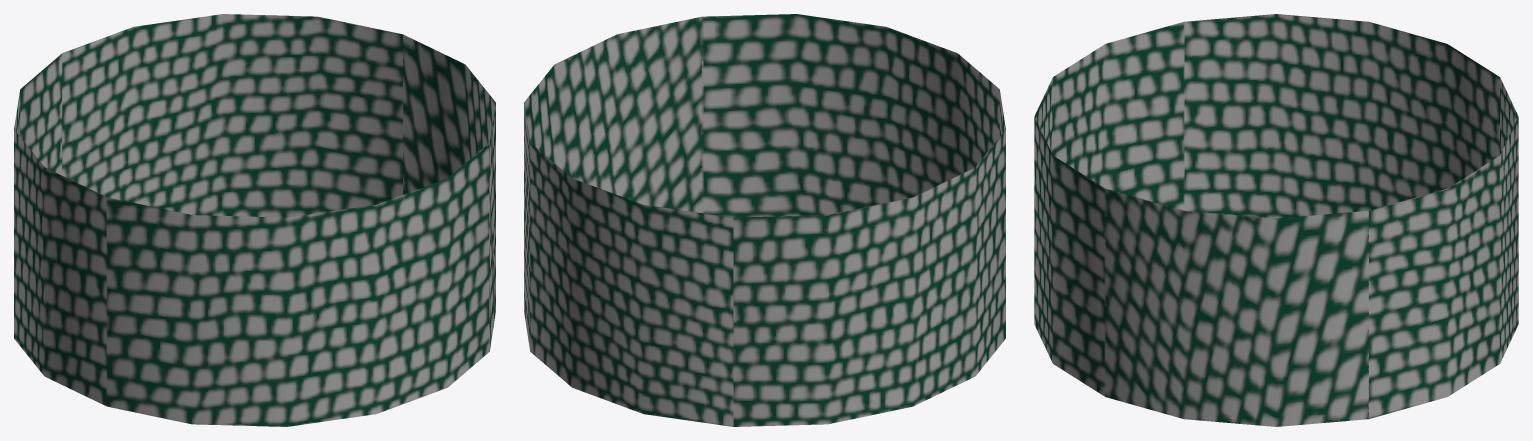
File: crabCage-collider 1.fbx
3 views of the same model, side by side, from view 1: azimuth 30°, elevation 25°; view 2: azimuth 150°, elevation 25°; view 3: azimuth 270°, elevation 25° (orthographic).
Parts seen in each view (by area): view 1: 贝塞尔曲线.031; view 2: 贝塞尔曲线.031; view 3: 贝塞尔曲线.031.
Boxes of the visible parts, x1=… form: 贝塞尔曲线.031: x1=14, y1=14, x2=495, y2=426; 贝塞尔曲线.031: x1=524, y1=14, x2=1005, y2=426; 贝塞尔曲线.031: x1=1034, y1=14, x2=1518, y2=426.
Bounding box in the file's own units: 145 × 68.7 × 145.
